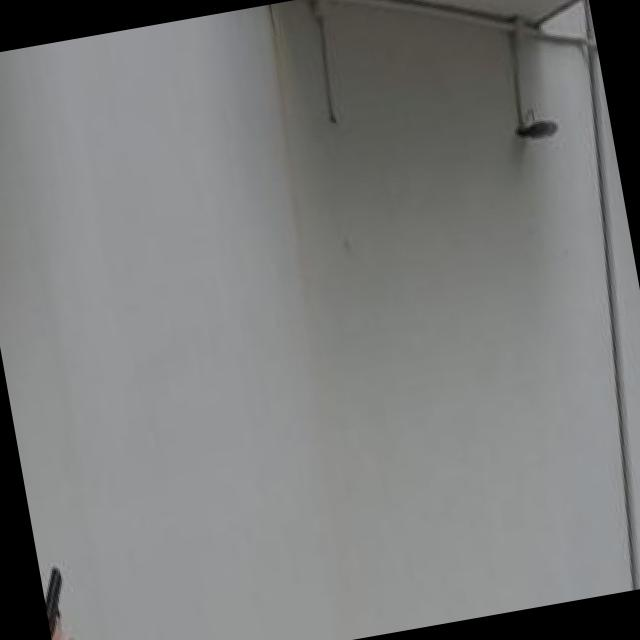Guns: (38, 562, 77, 640)
